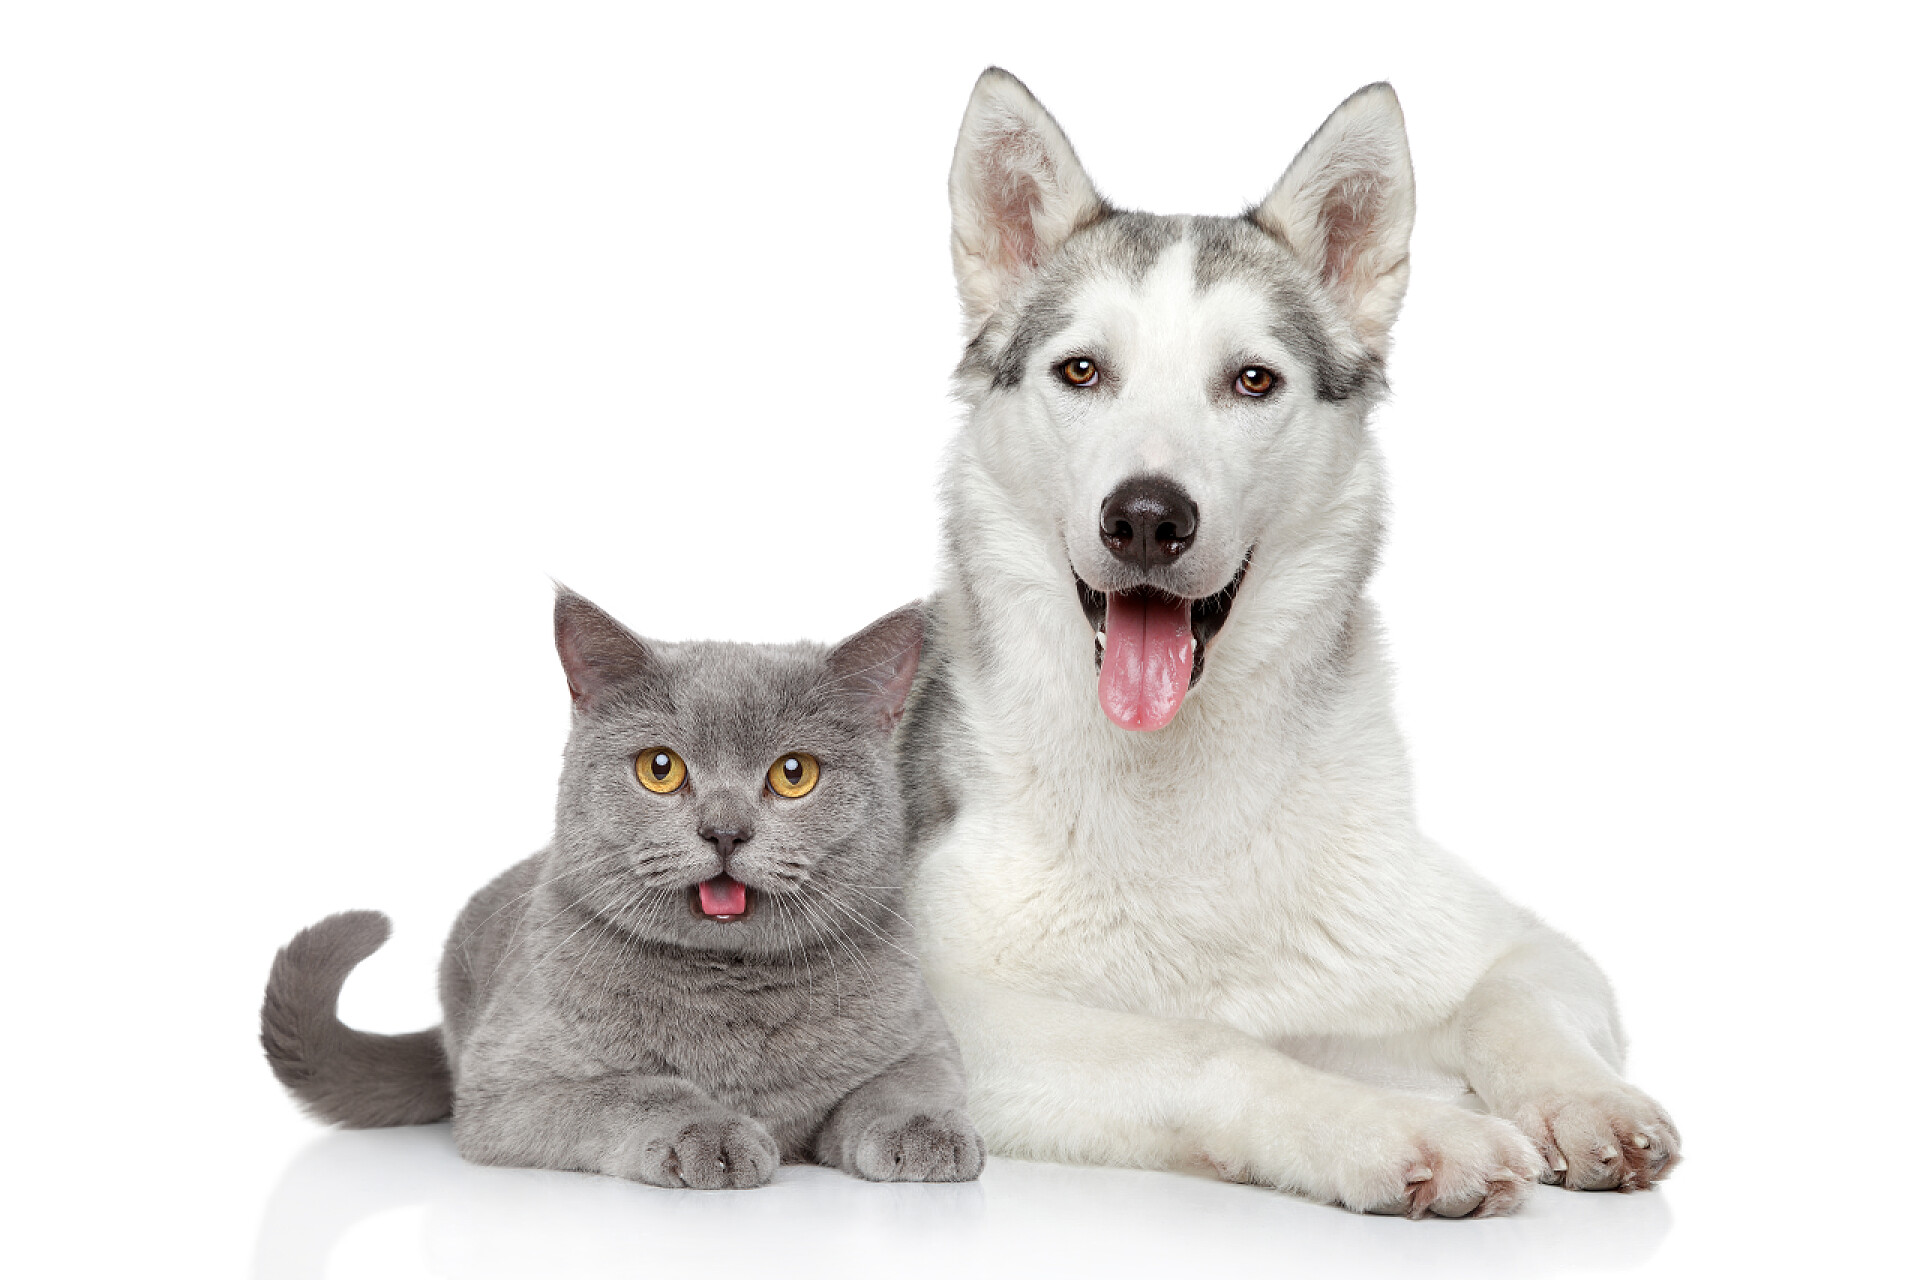cat: (247, 599, 996, 1181)
dog: (876, 66, 1683, 1220)
